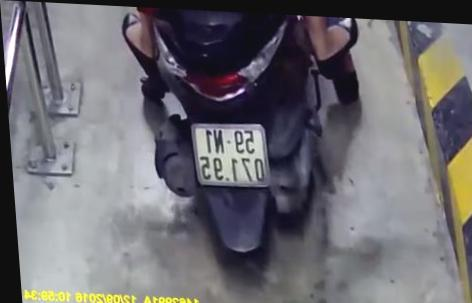License_Plate: (186, 115, 279, 196)
